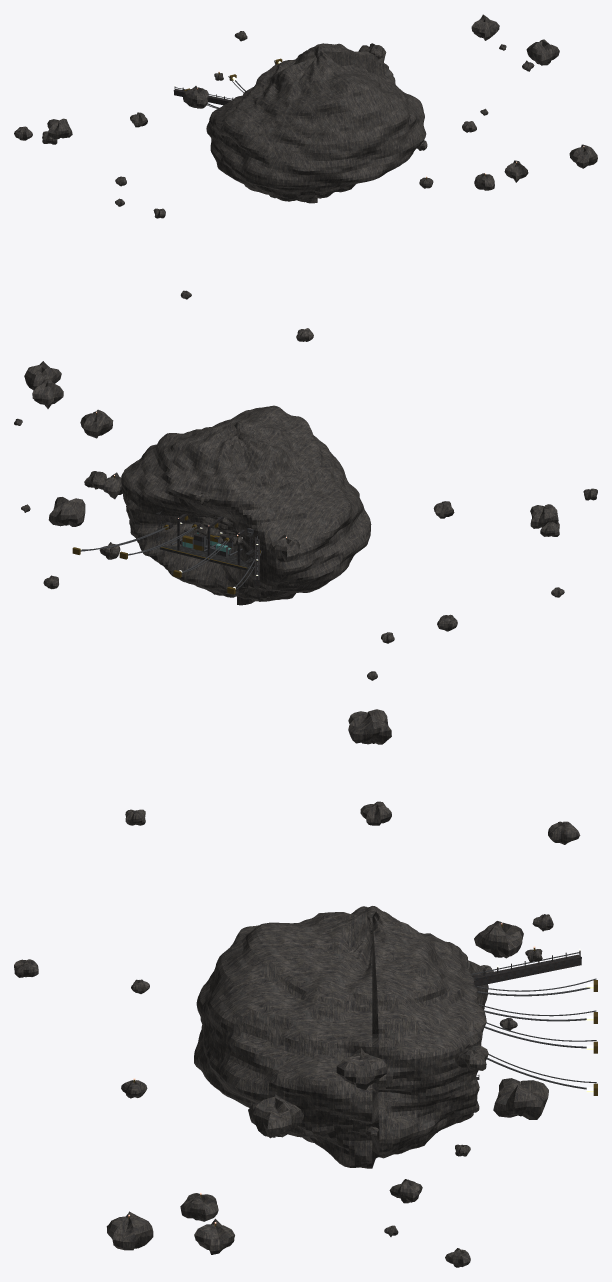
The model's file is anchorage-belt.glb.
3 renders of one model, top to bottom at view 1: azimuth 30°, elevation 25°; view 2: azimuth 150°, elevation 25°; view 3: azimuth 270°, elevation 25°, orthographic. The views are drawn at different scales.
Visible parts, largest first — view 1: vantor_s0; view 2: vantor_s0; view 3: vantor_s0.
Boxes of the visible parts, x1,y1,x2,y2 form: vantor_s0: (14, 14, 597, 299); vantor_s0: (14, 328, 597, 680); vantor_s0: (14, 709, 597, 1267).
Bounding box in the file's own units: 340 × 103 × 214.
9 materials, 4 textured.
